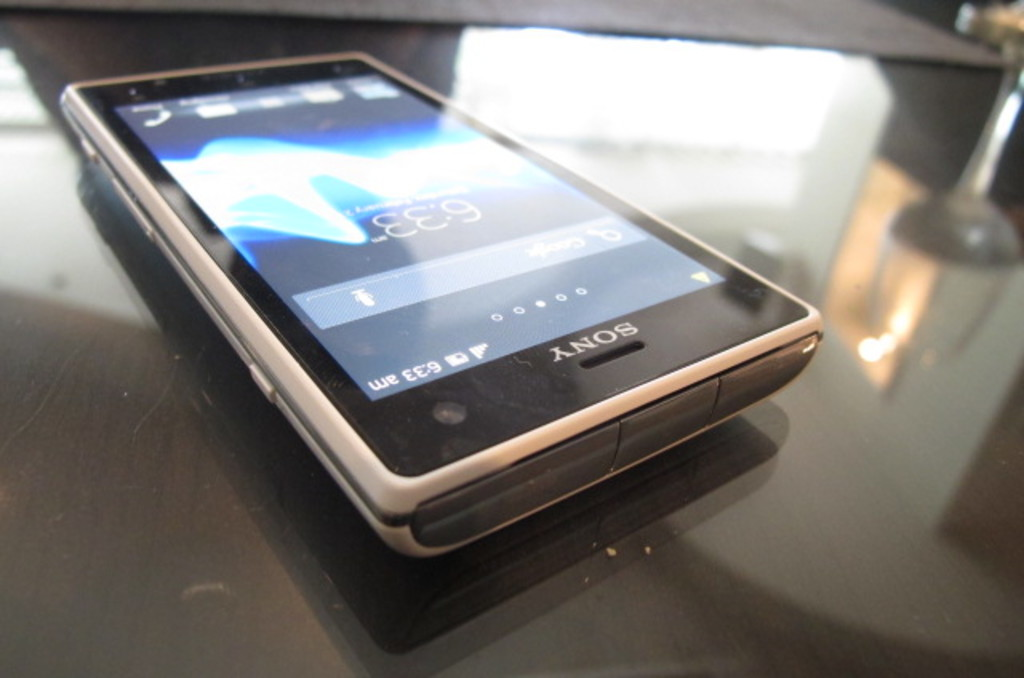Mobile-phone: (54, 48, 827, 561)
